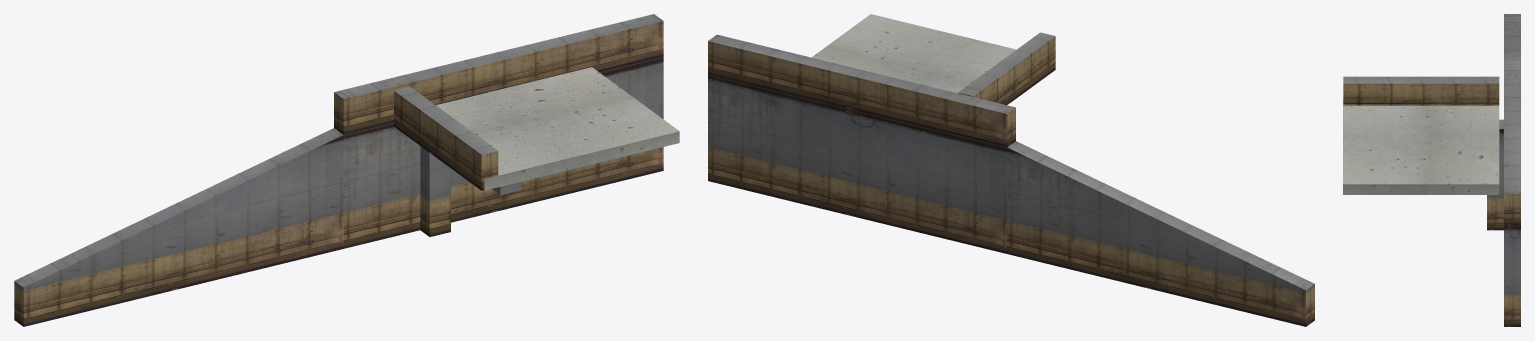
The model's file is tunnel.FBX.
The picture shows the model from 3 angles, left to right: view 1: azimuth 30°, elevation 25°; view 2: azimuth 150°, elevation 25°; view 3: azimuth 270°, elevation 25°; orthographic projection. The views are drawn at different scales.
Parts seen in each view (by area): view 1: Box007, Box003, Box001, Box005, Box004, Box002; view 2: Box001, Box007, Box005, Box003, Box004; view 3: Box003, Box004, Box005, Box001, Box002, Box007.
Part boxes in pixels (x1,y1,x2,y2): Box007: [14, 128, 343, 326]; Box003: [436, 67, 679, 190]; Box001: [343, 57, 663, 248]; Box005: [334, 14, 663, 134]; Box004: [394, 86, 498, 190]; Box002: [420, 146, 450, 236]; Box001: [708, 74, 1007, 253]; Box007: [1007, 141, 1314, 326]; Box005: [708, 34, 1015, 147]; Box003: [811, 14, 1016, 93]; Box004: [958, 32, 1055, 105]; Box003: [1343, 100, 1499, 194]; Box004: [1343, 76, 1499, 105]; Box005: [1504, 54, 1520, 225]; Box001: [1504, 225, 1520, 326]; Box002: [1487, 119, 1503, 230]; Box007: [1504, 14, 1520, 54].
Size of the model in its own units: 1135 by 254 by 307.
